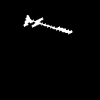double_crochet: (24, 15, 71, 33)
